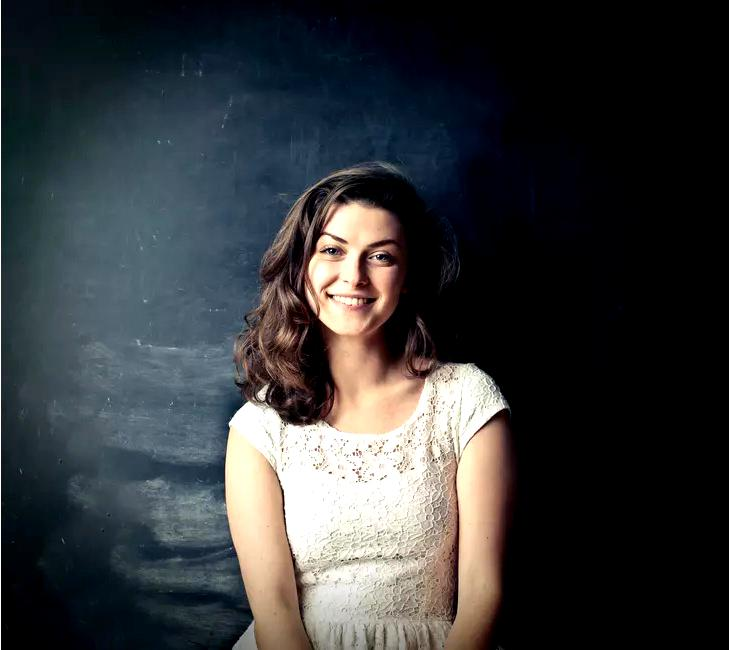face: (306, 201, 404, 333)
